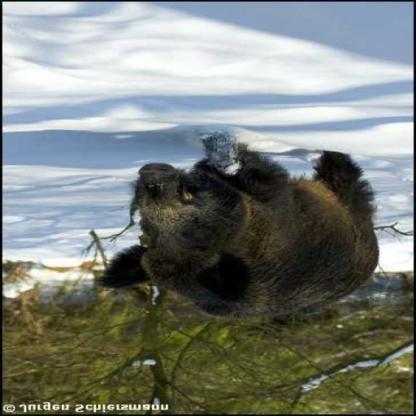boar: (95, 127, 406, 334)
